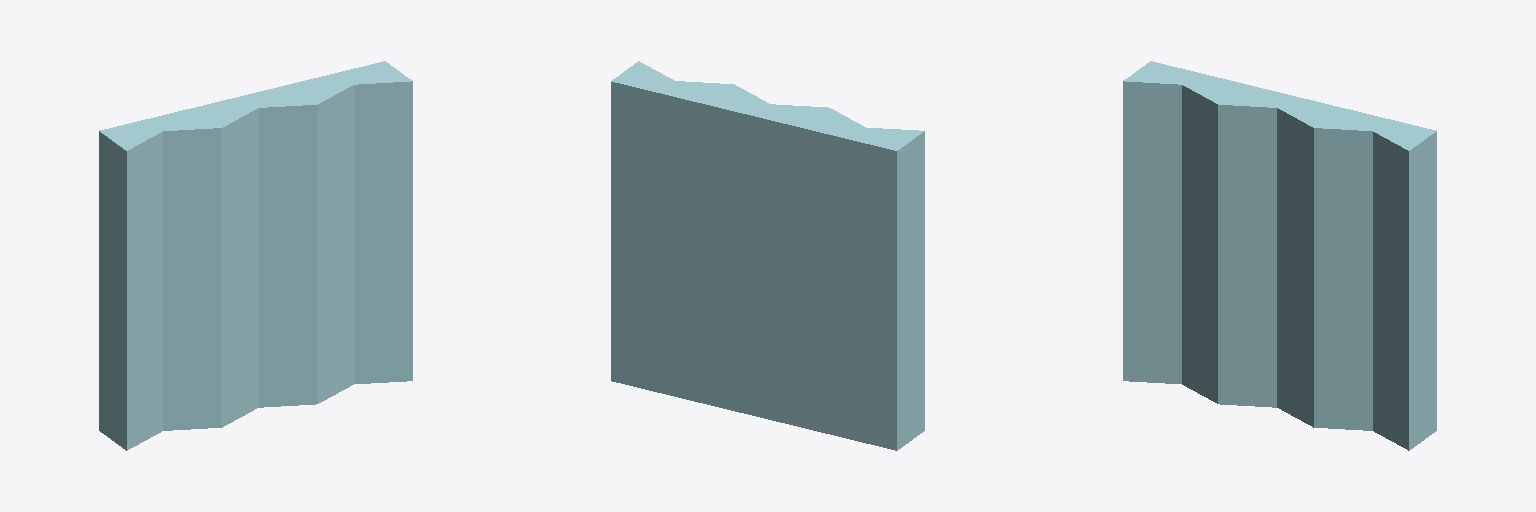
The model's file is cliff_stone.obj.
3 views of the same model, side by side, from view 1: azimuth 30°, elevation 25°; view 2: azimuth 150°, elevation 25°; view 3: azimuth 330°, elevation 25° (orthographic).
Parts seen in each view (by area): view 1: cliff_stone; view 2: cliff_stone; view 3: cliff_stone.
Boxes of the visible parts, <box> form: cliff_stone: <box>99,61,412,450</box>; cliff_stone: <box>611,61,924,450</box>; cliff_stone: <box>1123,61,1436,450</box>.
Size of the model in its own units: 1 by 1 by 0.1685.